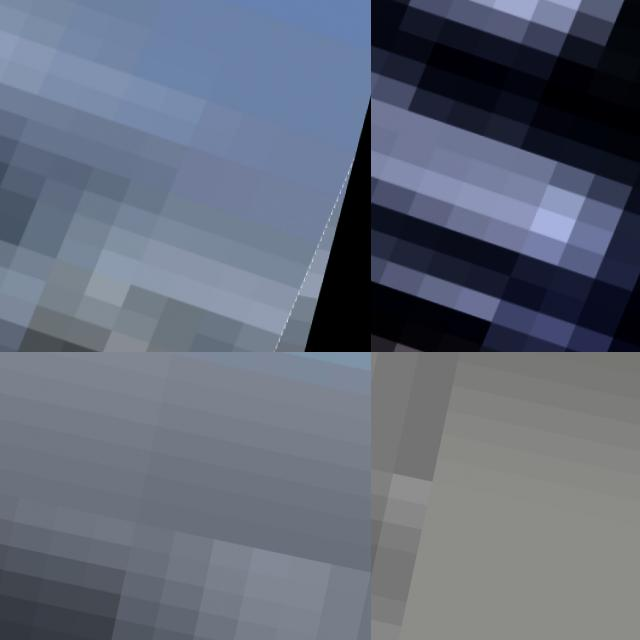0: (371, 0, 640, 352)
drone: (0, 0, 371, 352)
